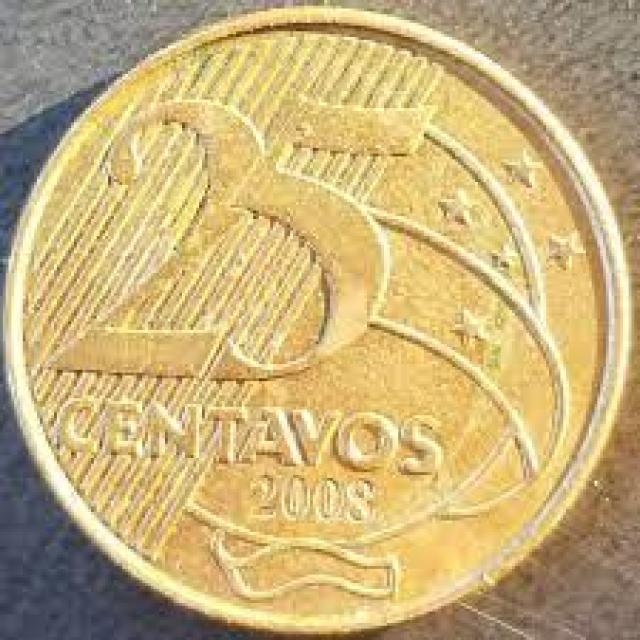25 cent: (11, 3, 623, 609)
